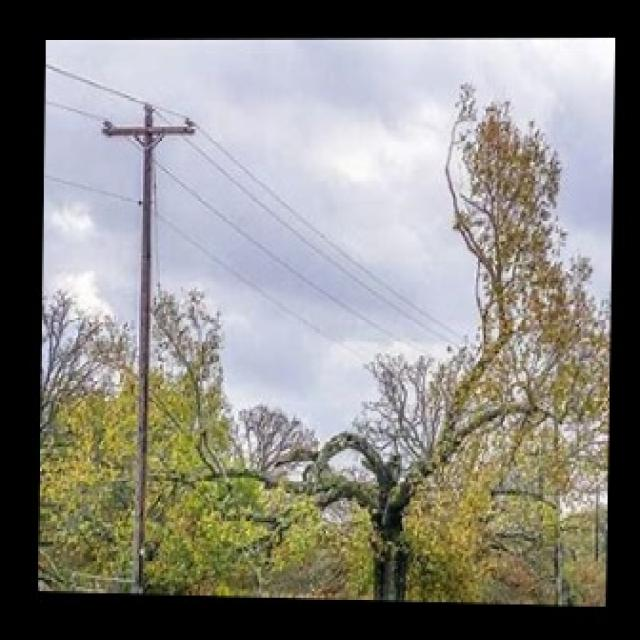utility poles: (104, 74, 192, 594)
